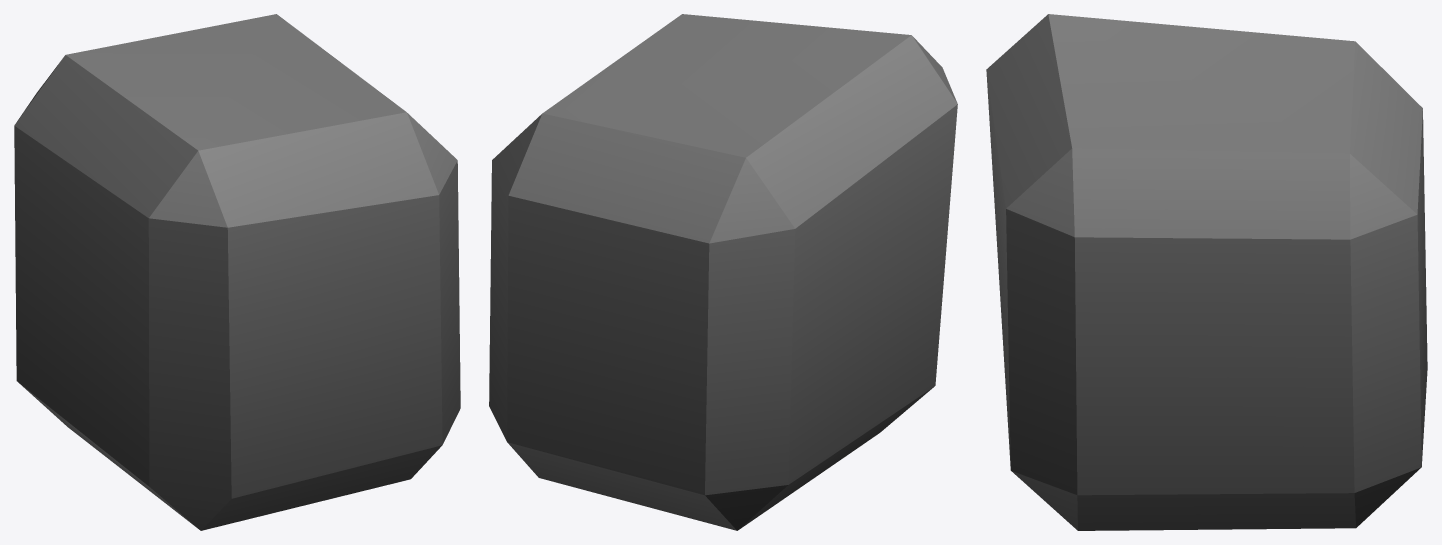
Rendered from Brick_Small_SH_01.fbx.
3 renders of one model, left to right at view 1: azimuth 30°, elevation 25°; view 2: azimuth 150°, elevation 25°; view 3: azimuth 270°, elevation 25°, orthographic. The views are drawn at different scales.
Visible parts, largest first — view 1: Brick_Small_SH_01; view 2: Brick_Small_SH_01; view 3: Brick_Small_SH_01.
Part boxes in pixels (x1,y1,x2,y2): Brick_Small_SH_01: (14,14,460,530); Brick_Small_SH_01: (489,14,957,530); Brick_Small_SH_01: (986,14,1427,530).
Bounding box in the file's own units: 17.29 × 20.07 × 19.86.
